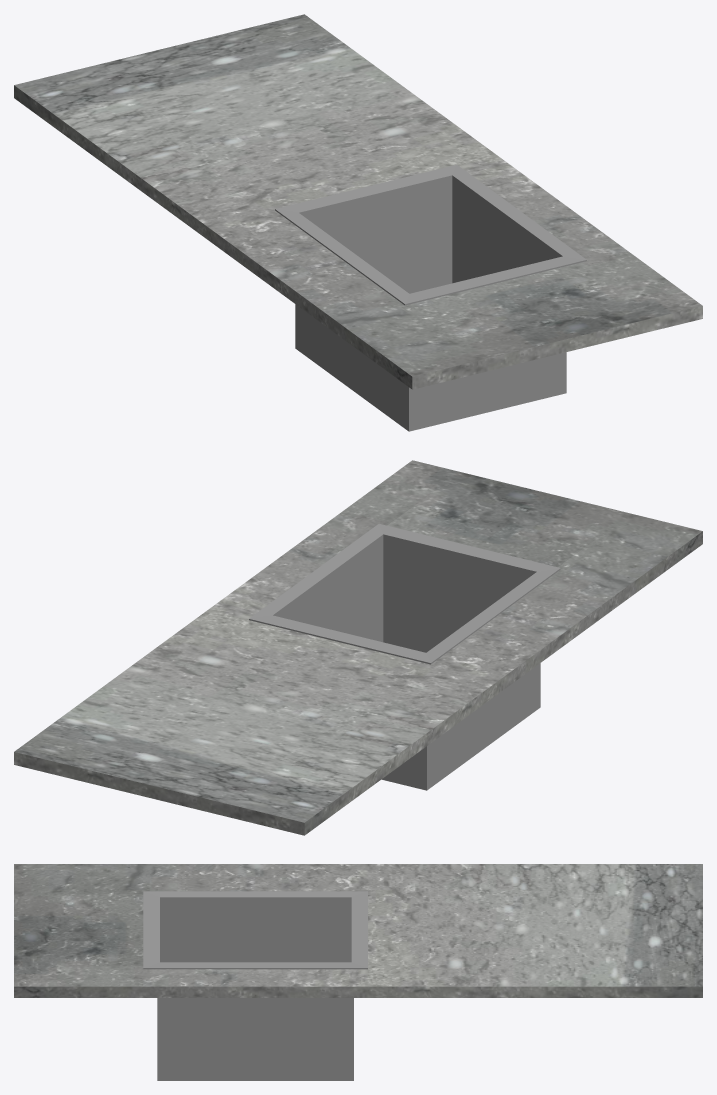
The model's file is countertop-three.glb.
The picture shows the model from 3 angles, top to bottom: view 1: azimuth 30°, elevation 25°; view 2: azimuth 150°, elevation 25°; view 3: azimuth 270°, elevation 25°; orthographic projection. The views are drawn at different scales.
Parts seen in each view (by area): view 1: Cube.018; view 2: Cube.018; view 3: Cube.018.
Part boxes in pixels (x1,y1,x2,y2): Cube.018: [14, 14, 702, 431]; Cube.018: [14, 460, 702, 835]; Cube.018: [14, 864, 702, 1080].
Size of the model in its own units: 0.4699 by 0.2109 by 1.12.
2 materials, 1 textured.
